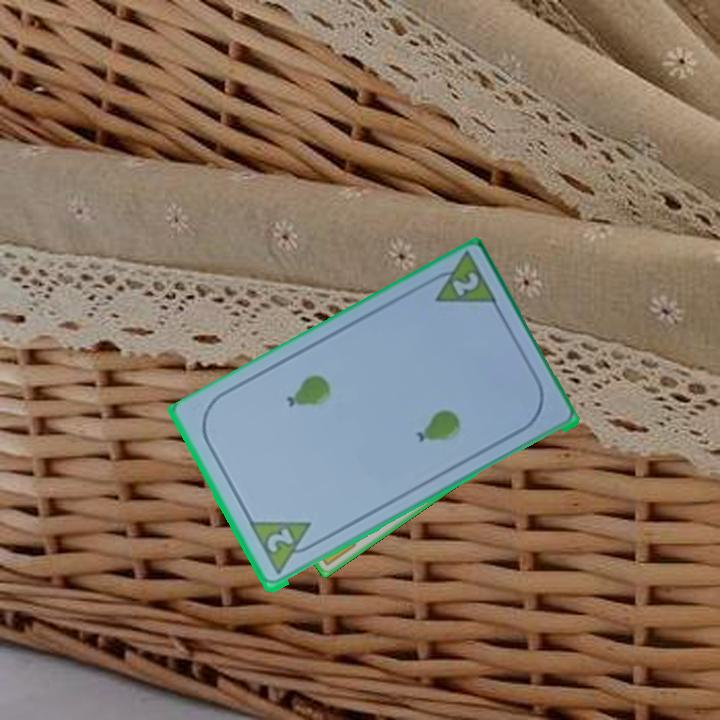2p: (421, 251, 501, 311), (262, 525, 296, 556)
